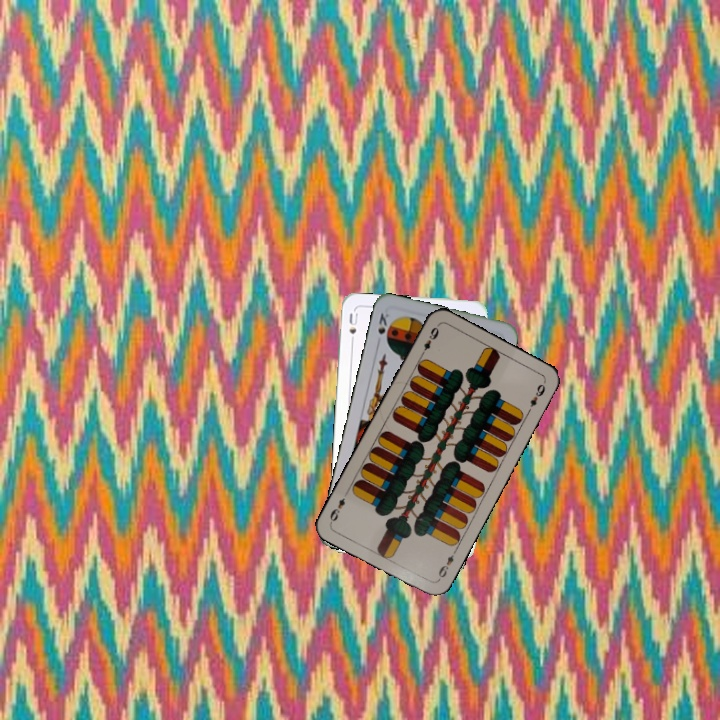E9: (416, 322, 441, 359), (434, 546, 459, 583)
SK: (373, 309, 392, 348)
SU: (345, 309, 360, 348)
